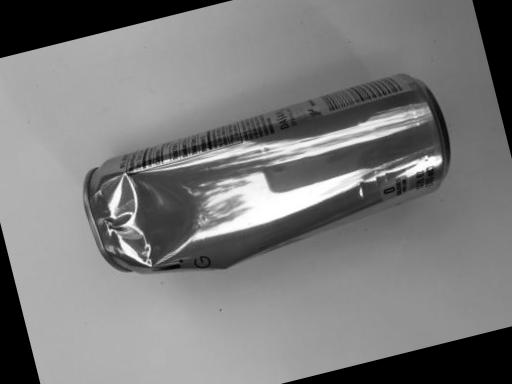metal: (49, 37, 508, 331)
